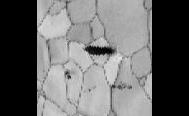good_void: (84, 44, 116, 56), (117, 81, 130, 89), (62, 69, 71, 80), (108, 82, 116, 88), (88, 87, 92, 92)
